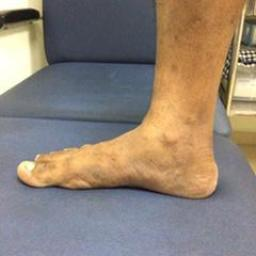Medial View -Right Foot-: (10, 80, 232, 207)
